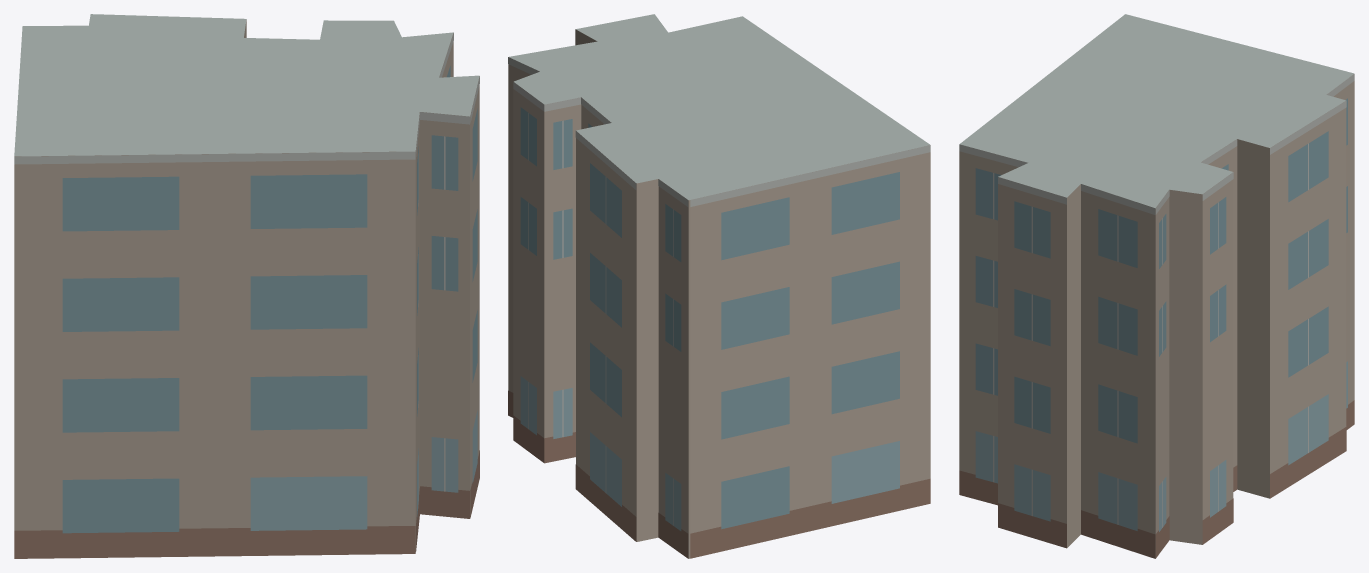
The model's file is survey-upis-32643522.glb.
3 views of the same model, side by side, from view 1: azimuth 30°, elevation 25°; view 2: azimuth 150°, elevation 25°; view 3: azimuth 270°, elevation 25° (orthographic). The views are drawn at different scales.
Visible parts, largest first — view 1: survey-upis-32643522.tmp; view 2: survey-upis-32643522.tmp; view 3: survey-upis-32643522.tmp.
Boxes of the visible parts, box(x1,y1,x2,y2) form: survey-upis-32643522.tmp: box(14, 14, 479, 558); survey-upis-32643522.tmp: box(508, 14, 930, 558); survey-upis-32643522.tmp: box(959, 14, 1354, 558).
Bounding box in the file's own units: 14.5 × 12.2 × 12.47.
